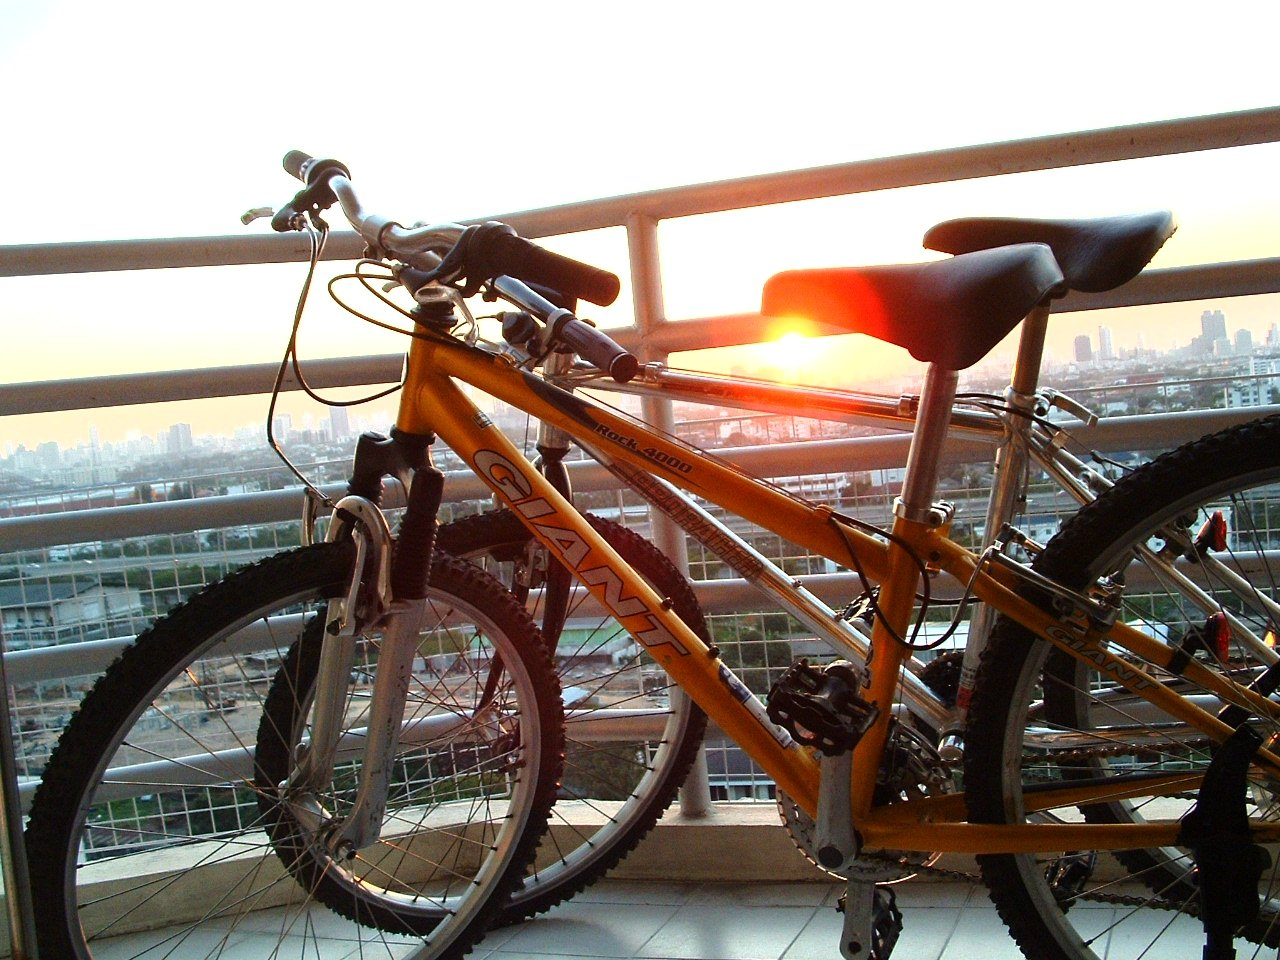Bicycle: (9, 69, 1280, 960)
